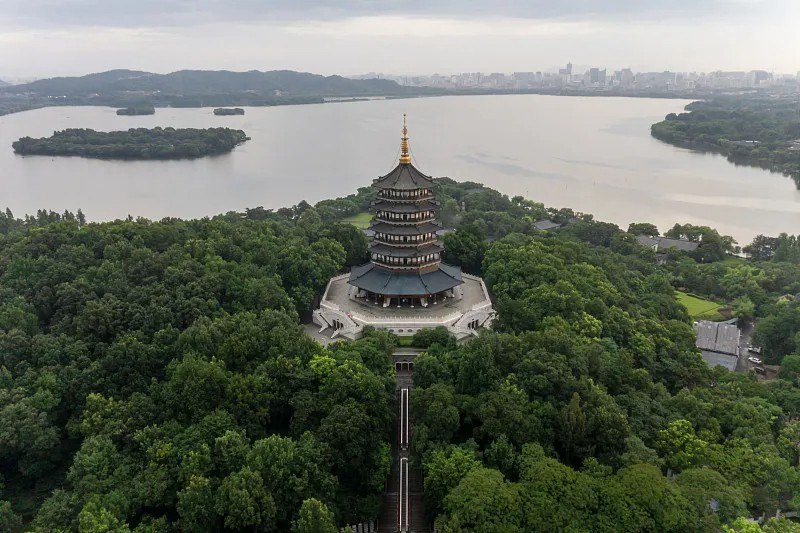Leifeng: (347, 111, 463, 308)
